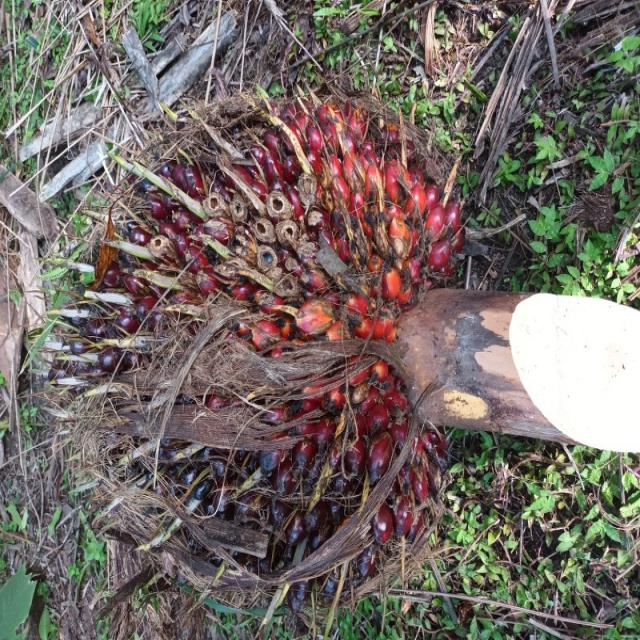fraksi 1: (62, 49, 408, 625)
